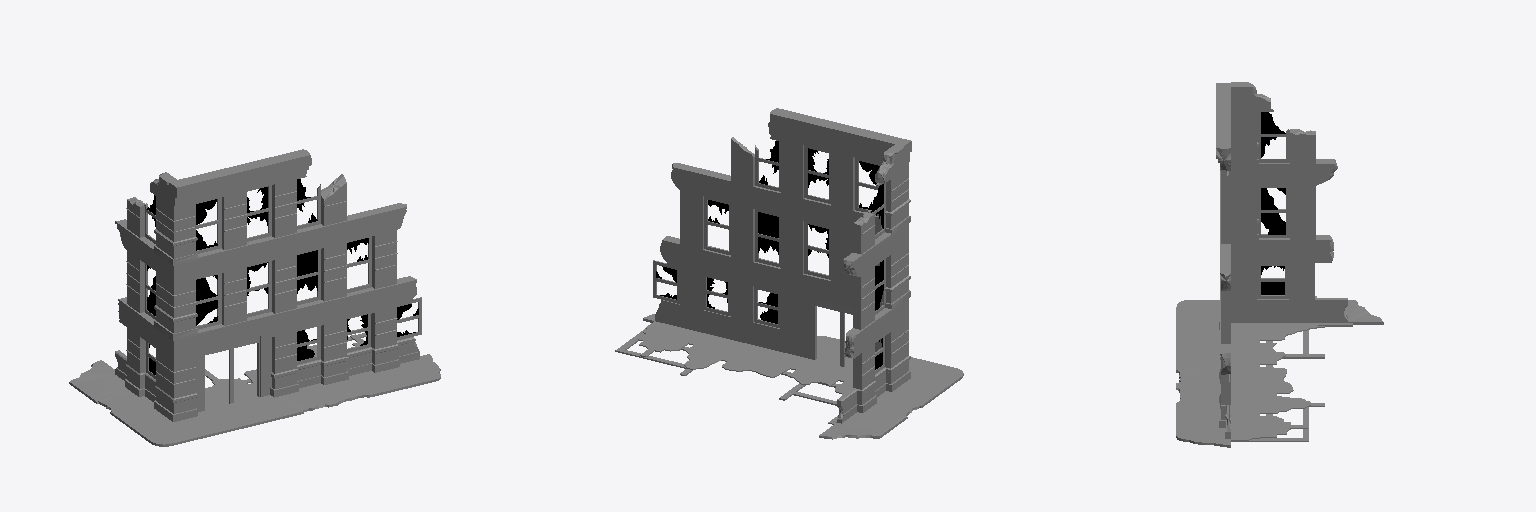
Rendered from Building_Ruins.obj.
3 views of the same model, side by side, from view 1: azimuth 30°, elevation 25°; view 2: azimuth 150°, elevation 25°; view 3: azimuth 270°, elevation 25° (orthographic).
Visible parts, largest first — view 1: Ruins_01, Sidewalk, Ruins_02, Window_Frames, Windows, Floor_Boards; view 2: Ruins_01, Ruins_02, Floor_Boards, Window_Frames, Sidewalk, Windows, Foundations; view 3: Ruins_02, Sidewalk, Floor_Boards, Ruins_01, Window_Frames, Windows, Foundations.
Part boxes in pixels (left/top/right/bottom): Ruins_01: left=167, top=149, right=419, bottom=421; Sidewalk: left=69, top=354, right=440, bottom=446; Ruins_02: left=115, top=172, right=176, bottom=416; Window_Frames: left=144, top=175, right=421, bottom=403; Windows: left=147, top=179, right=418, bottom=374; Floor_Boards: left=205, top=334, right=363, bottom=408; Ruins_01: left=655, top=108, right=911, bottom=381; Ruins_02: left=837, top=144, right=905, bottom=423; Floor_Boards: left=638, top=321, right=852, bottom=424; Window_Frames: left=653, top=137, right=885, bottom=373; Sidewalk: left=643, top=314, right=963, bottom=439; Windows: left=656, top=141, right=883, bottom=369; Foundations: left=615, top=328, right=839, bottom=405; Ruins_02: left=1231, top=82, right=1347, bottom=321; Sidewalk: left=1176, top=300, right=1383, bottom=447; Floor_Boards: left=1231, top=323, right=1352, bottom=440; Ruins_01: left=1216, top=83, right=1230, bottom=438; Window_Frames: left=1227, top=109, right=1289, bottom=418; Windows: left=1261, top=112, right=1285, bottom=294; Foundations: left=1231, top=326, right=1324, bottom=441.
Size of the model in its own units: 1255 by 955 by 753.